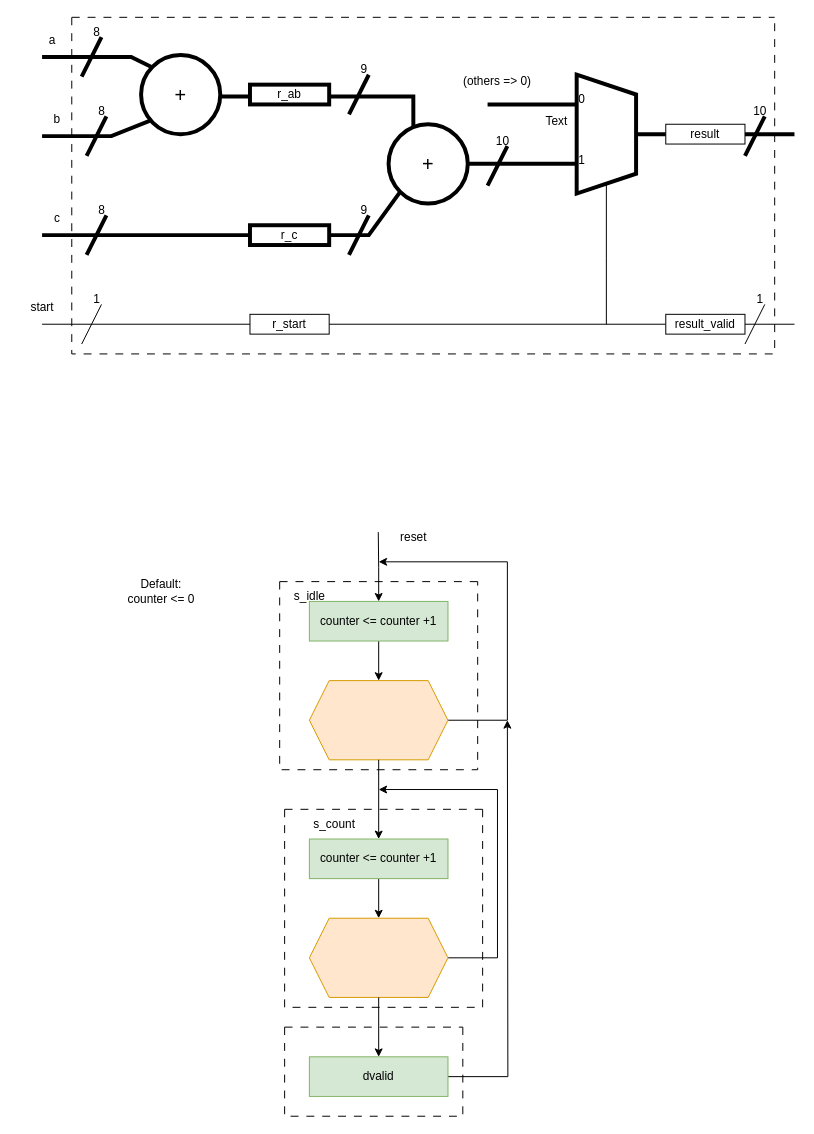
This 814x1134 diagram has some shape labels left out. The shapes that lost their labels are listed below. From the top down, each one's centre as x and y in pixels, then its label:
At [378,720]: "dout = 0xAA".
At [378,957]: "counter = 6".
At [373,1071]: "s_dvalid".
